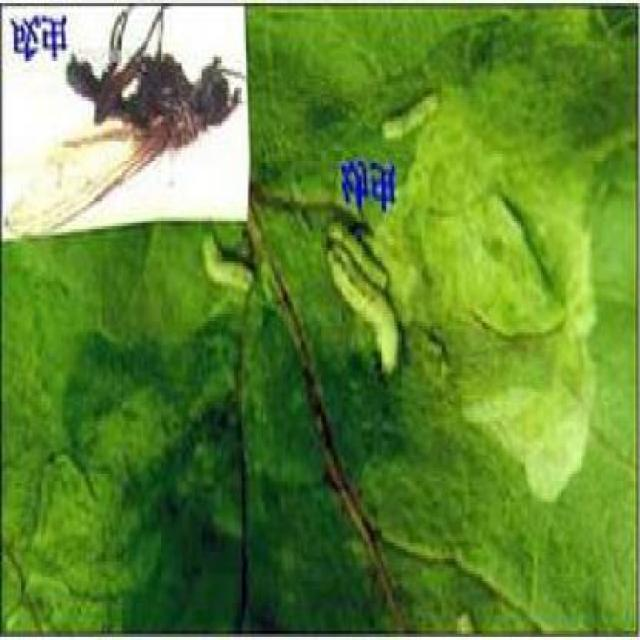whorl-maggot: (323, 209, 403, 374), (196, 226, 262, 302), (372, 85, 448, 144)
